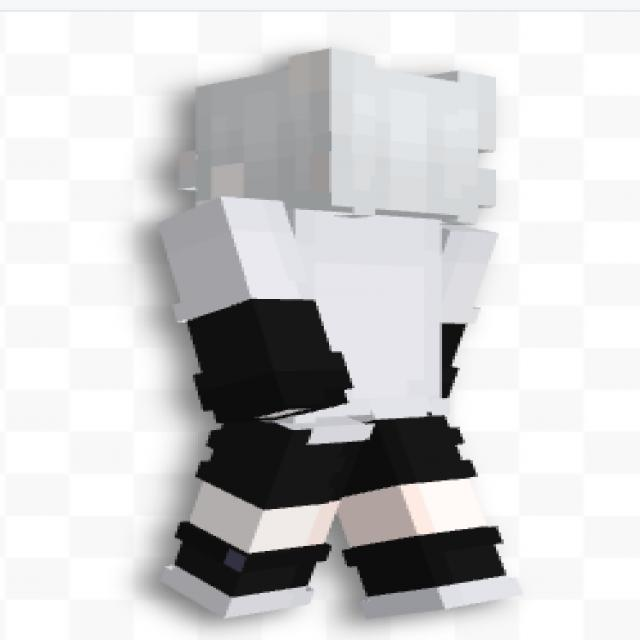Player: (160, 46, 526, 614)
